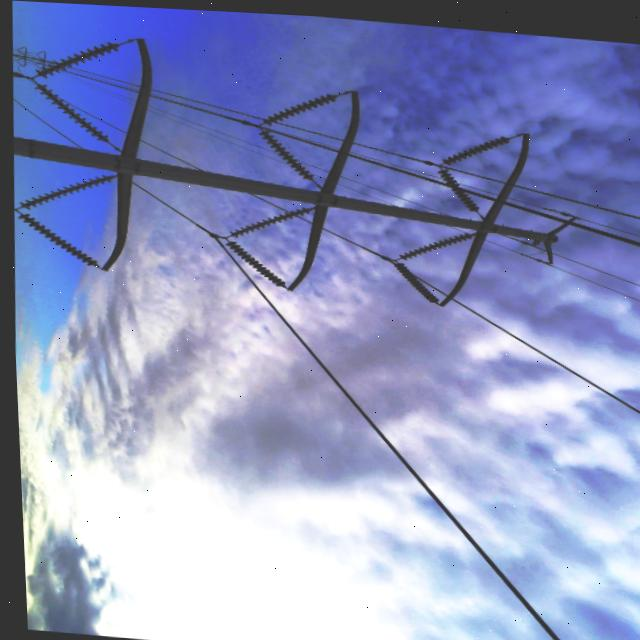poles: (13, 29, 560, 303)
wires: (226, 275, 584, 640), (446, 297, 640, 423), (499, 178, 640, 253), (351, 132, 431, 181)
